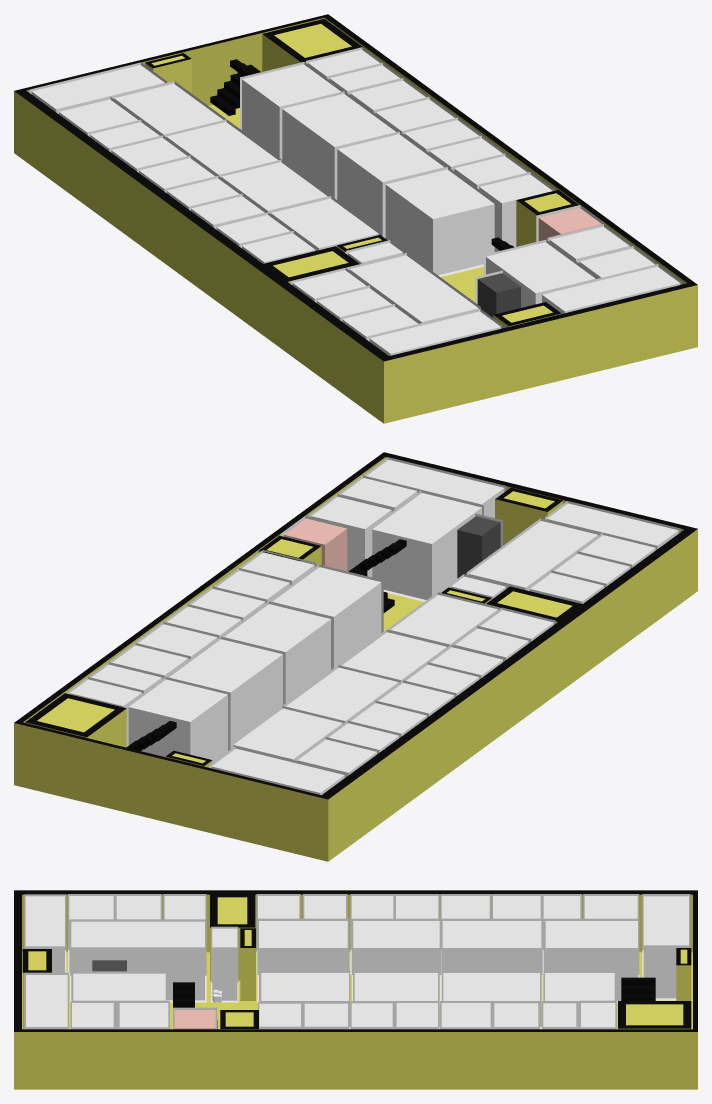
3 renders of one model, top to bottom at view 1: azimuth 30°, elevation 25°; view 2: azimuth 150°, elevation 25°; view 3: azimuth 270°, elevation 25°, orthographic. The views are drawn at different scales.
Parts seen in each view (by area): view 1: object, room_4_5_6, room_4_5_35, room_4_5_7, room_4_5_8, room_4_5_2, room_4_5_5, room_4_5_33, room_4_5_3, room_4_5_34, room_4_5_18, room_4_5_4 (+28 smaller); view 2: object, room_4_5_5, room_4_5_8, room_4_5_35, room_4_5_6, room_4_5_7, room_4_5_2, room_4_5_33, room_4_5_34, room_4_5_17, room_4_5_3, room_4_5_18 (+29 smaller); view 3: object, room_4_5_2, room_4_5_33, room_4_5_34, room_4_5_3, room_4_5_4, room_4_5_17, room_4_5_35, room_4_5_5, room_4_5_6, room_4_5_7, room_4_5_32 (+42 smaller).
Boxes of the visible parts, bbox=[...] form: object: bbox=[14, 14, 697, 423]; room_4_5_6: bbox=[385, 169, 494, 275]; room_4_5_35: bbox=[282, 94, 395, 198]; room_4_5_7: bbox=[337, 134, 444, 236]; room_4_5_8: bbox=[242, 64, 340, 157]; room_4_5_2: bbox=[349, 255, 478, 323]; room_4_5_5: bbox=[486, 242, 595, 307]; room_4_5_33: bbox=[166, 122, 277, 175]; room_4_5_3: bbox=[271, 198, 378, 250]; room_4_5_34: bbox=[114, 83, 222, 135]; room_4_5_18: bbox=[542, 266, 680, 313]; room_4_5_4: bbox=[221, 162, 327, 212]; object: bbox=[14, 452, 697, 861]; room_4_5_5: bbox=[372, 493, 481, 599]; room_4_5_8: bbox=[128, 679, 227, 762]; room_4_5_35: bbox=[169, 639, 282, 749]; room_4_5_6: bbox=[272, 567, 381, 668]; room_4_5_7: bbox=[224, 604, 330, 703]; room_4_5_2: bbox=[469, 521, 597, 590]; room_4_5_33: bbox=[286, 667, 398, 722]; room_4_5_34: bbox=[233, 708, 342, 760]; room_4_5_17: bbox=[211, 748, 344, 795]; room_4_5_3: bbox=[390, 595, 497, 645]; room_4_5_18: bbox=[366, 460, 504, 517]; object: bbox=[14, 890, 697, 1089]; room_4_5_2: bbox=[71, 921, 204, 1000]; room_4_5_33: bbox=[442, 921, 541, 970]; room_4_5_34: bbox=[545, 921, 637, 1000]; room_4_5_3: bbox=[259, 921, 347, 1000]; room_4_5_4: bbox=[353, 921, 439, 970]; room_4_5_17: bbox=[643, 896, 688, 998]; room_4_5_35: bbox=[443, 973, 539, 1029]; room_4_5_5: bbox=[73, 973, 165, 1029]; room_4_5_6: bbox=[261, 973, 348, 1028]; room_4_5_7: bbox=[354, 973, 437, 1029]; room_4_5_32: bbox=[25, 896, 64, 972].
Size of the model in its own units: 0.9668 by 0.1898 by 1.97.
